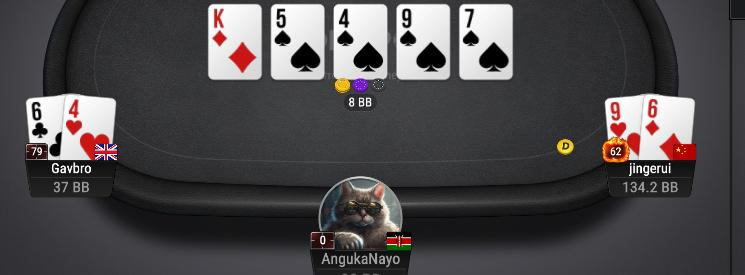4h: (64, 94, 115, 159)
4s: (335, 4, 387, 78)
5s: (271, 5, 323, 79)
6c: (26, 96, 63, 159)
6d: (642, 94, 695, 162)
7s: (461, 4, 511, 80)
9h: (604, 95, 643, 160)
9s: (396, 4, 450, 79)
Kd: (208, 5, 262, 79)
